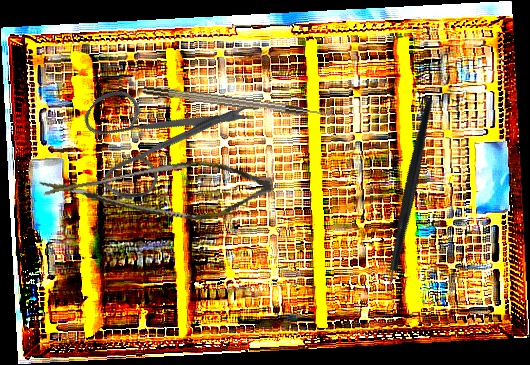Chopper: (322, 96, 502, 310)
Hook Surgical: (142, 84, 336, 121)
Iris Scissors: (57, 27, 260, 233)
Micro Scissor: (39, 134, 277, 252)
